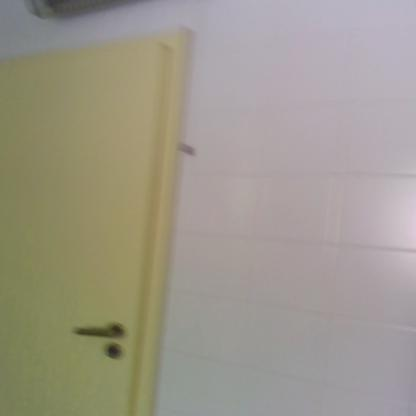door: (0, 62, 141, 416)
lever: (76, 324, 125, 338)
